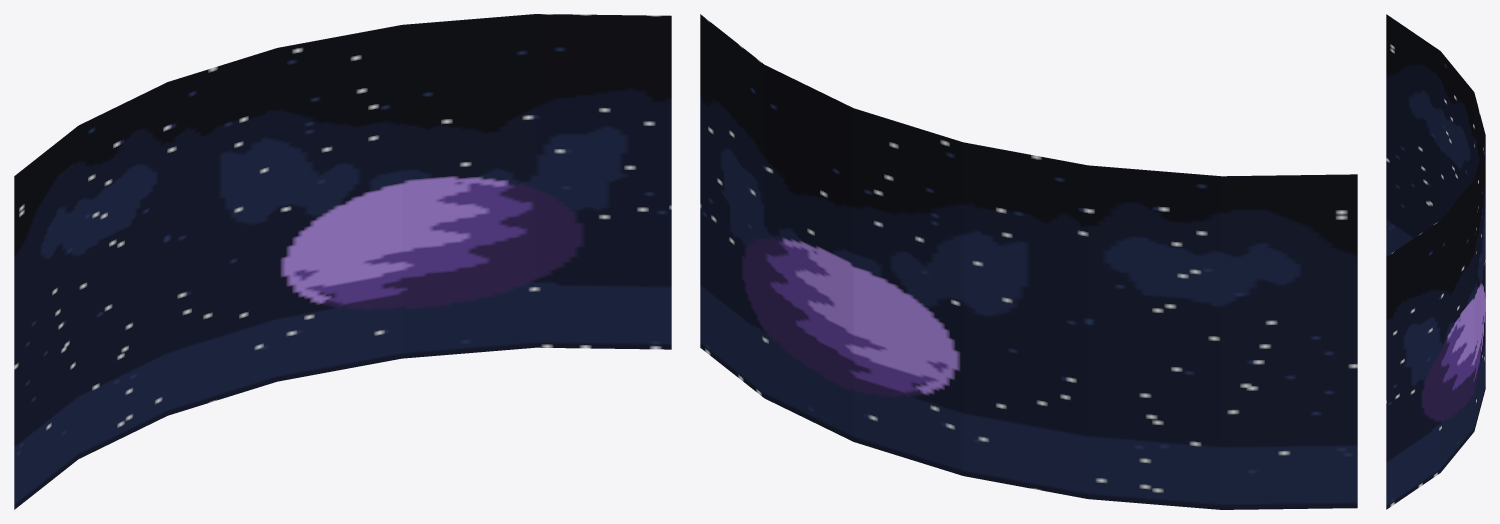
Rendered from skyx.nebula.glb.
3 views of the same model, side by side, from view 1: azimuth 30°, elevation 25°; view 2: azimuth 150°, elevation 25°; view 3: azimuth 270°, elevation 25° (orthographic). The views are drawn at different scales.
Parts seen in each view (by area): view 1: kit_shell_nebula; view 2: kit_shell_nebula; view 3: kit_shell_nebula.
Boxes of the visible parts, x1,y1,x2,y2 form: kit_shell_nebula: (14, 14, 671, 509); kit_shell_nebula: (700, 14, 1357, 509); kit_shell_nebula: (1386, 14, 1485, 509).
Bounding box in the file's own units: 37.1 × 18 × 6.42.
Materials: 1 (1 with a texture image).
